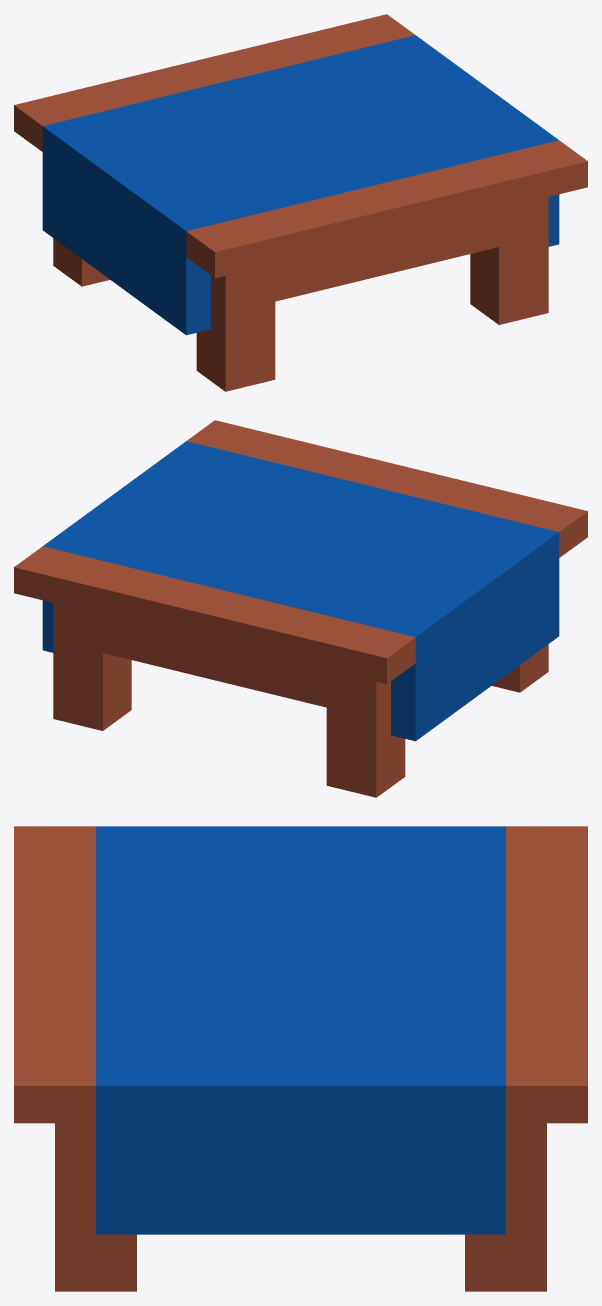
Rendered from small_table_a_blue.obj.
3 views of the same model, one above another, from view 1: azimuth 30°, elevation 25°; view 2: azimuth 150°, elevation 25°; view 3: azimuth 270°, elevation 25° (orthographic). The views are drawn at different scales.
Bounding box in the file's own units: 1.5 × 0.6 × 1.4.
Materials: 1 (1 with a texture image).
